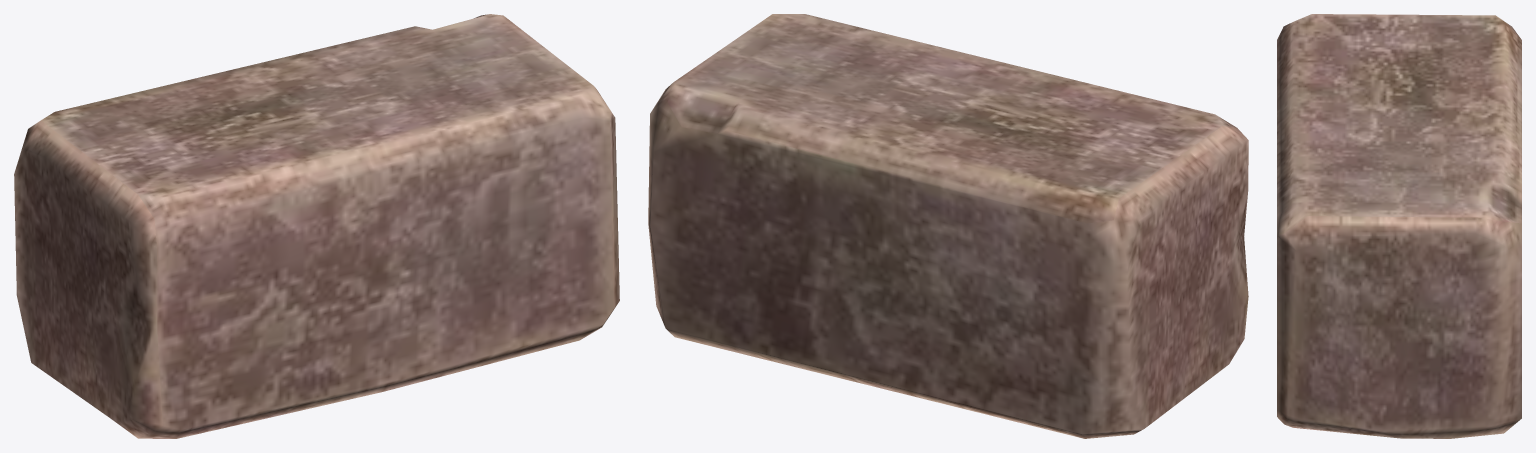
The picture shows the model from 3 angles, left to right: view 1: azimuth 30°, elevation 25°; view 2: azimuth 150°, elevation 25°; view 3: azimuth 270°, elevation 25°; orthographic projection. The views are drawn at different scales.
Visible parts, largest first — view 1: SM_Human_Ruins_Brick_04_LOD0; view 2: SM_Human_Ruins_Brick_04_LOD0; view 3: SM_Human_Ruins_Brick_04_LOD0.
Part boxes in pixels (x1,y1,x2,y2): SM_Human_Ruins_Brick_04_LOD0: (14, 14, 619, 438); SM_Human_Ruins_Brick_04_LOD0: (648, 14, 1248, 438); SM_Human_Ruins_Brick_04_LOD0: (1277, 14, 1521, 438).
Bounding box in the file's own units: 0.2614 × 0.125 × 0.125.
1 material, 1 textured.
